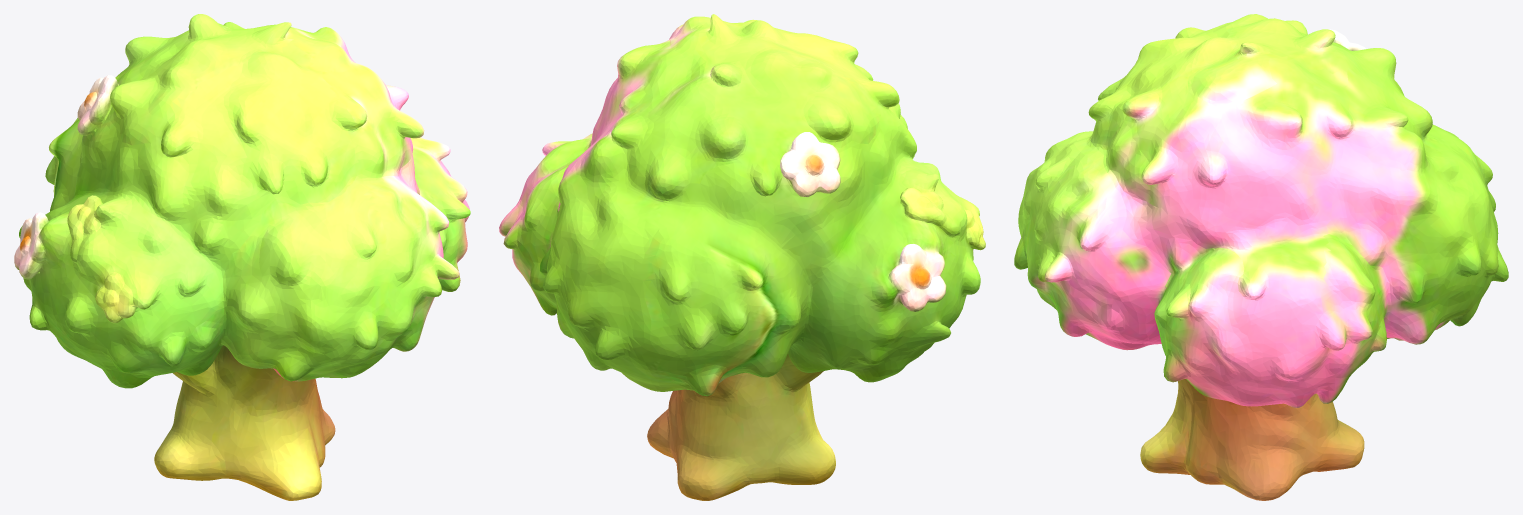
The model's file is tree_round.glb.
3 views of the same model, side by side, from view 1: azimuth 30°, elevation 25°; view 2: azimuth 150°, elevation 25°; view 3: azimuth 270°, elevation 25° (orthographic).
Visible parts, largest first — view 1: tripo_mesh_cafcc838-6b7c-45ab-82f7-036f70288962; view 2: tripo_mesh_cafcc838-6b7c-45ab-82f7-036f70288962; view 3: tripo_mesh_cafcc838-6b7c-45ab-82f7-036f70288962.
Boxes of the visible parts, left/top/right/bottom form: tripo_mesh_cafcc838-6b7c-45ab-82f7-036f70288962: left=14, top=14, right=470, bottom=500; tripo_mesh_cafcc838-6b7c-45ab-82f7-036f70288962: left=499, top=14, right=985, bottom=500; tripo_mesh_cafcc838-6b7c-45ab-82f7-036f70288962: left=1014, top=14, right=1508, bottom=500.
Size of the model in its own units: 0.9981 by 1 by 1.01.
1 material, 1 textured.
